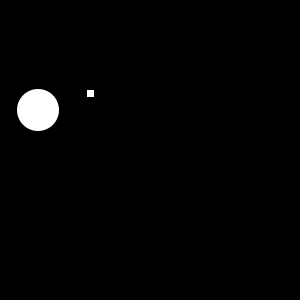circle: (87, 90, 94, 97)
rectangle: (17, 89, 59, 131)
